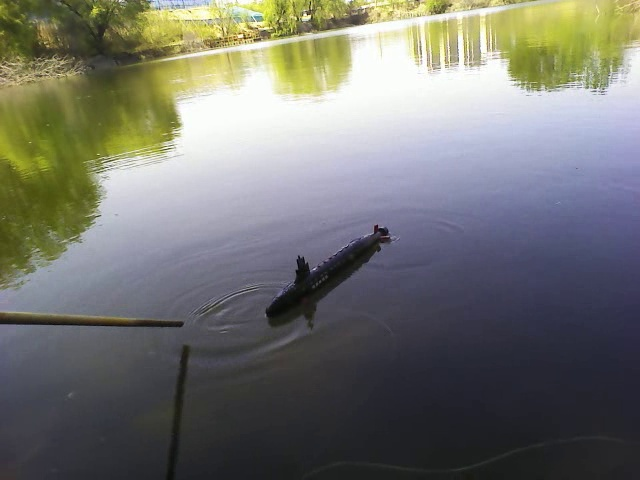submarine: (265, 220, 390, 319)
